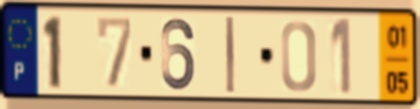0: (279, 18, 319, 95)
1: (326, 15, 353, 99), (40, 12, 64, 91)
6: (159, 16, 198, 93)
7: (93, 15, 135, 92)
I: (224, 14, 237, 97)
